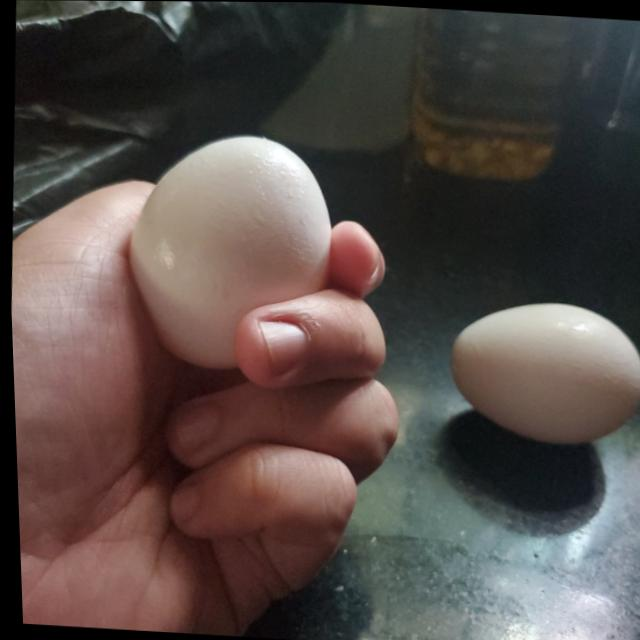egg: (126, 131, 342, 371), (448, 301, 640, 452)
